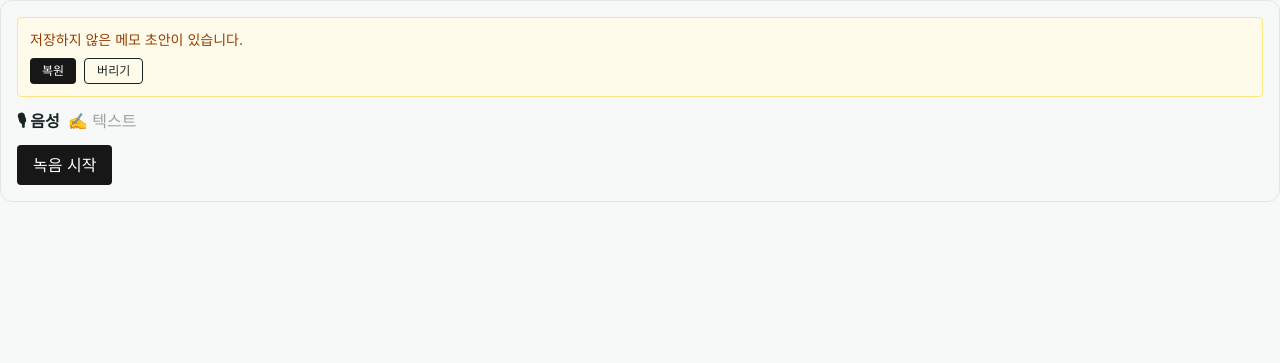
it: MemoComposer — AI 정리 재시도 (§5) › 정리 안 된 초안(cleanedContent 빈값) 복원 시 [다시 정리]가 보이고, 클릭하면 재정리된다
The image size is (1280, 363).
Step 1. Click the button "복원" → click(53, 71), box [30,58,76,84]
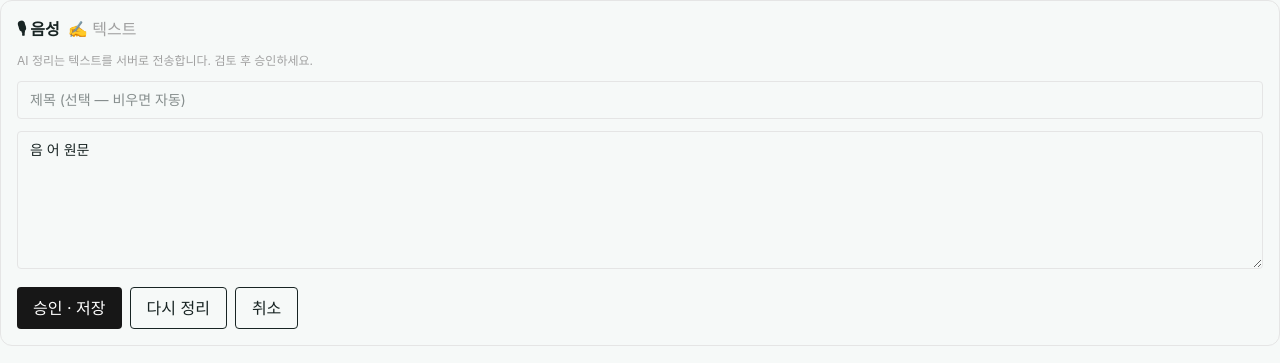
expect the text box showing "음 어 원문" is shown: met, box [17,131,1263,269]
Step 2. Click the button "다시 정리" → click(178, 308), box [130,287,227,329]
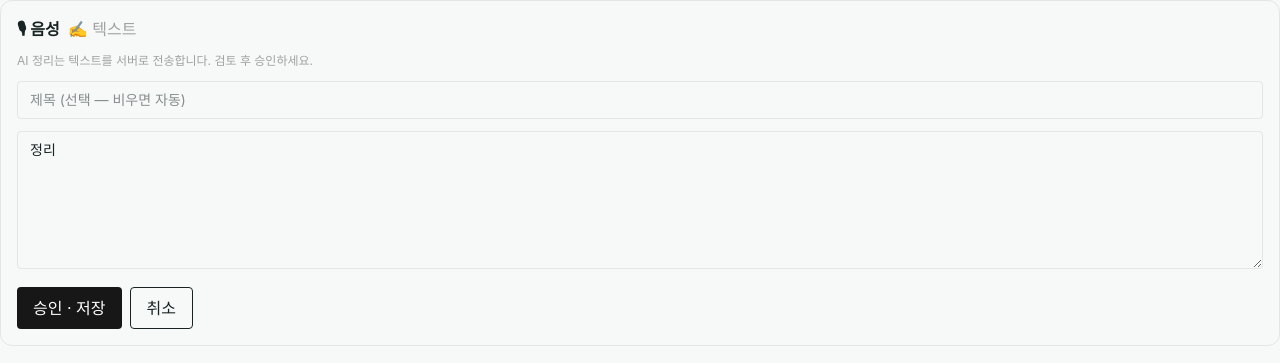
expect the text box showing "정리" is shown: met, box [17,131,1263,269]
expect the button "다시 정리" is gone: met
